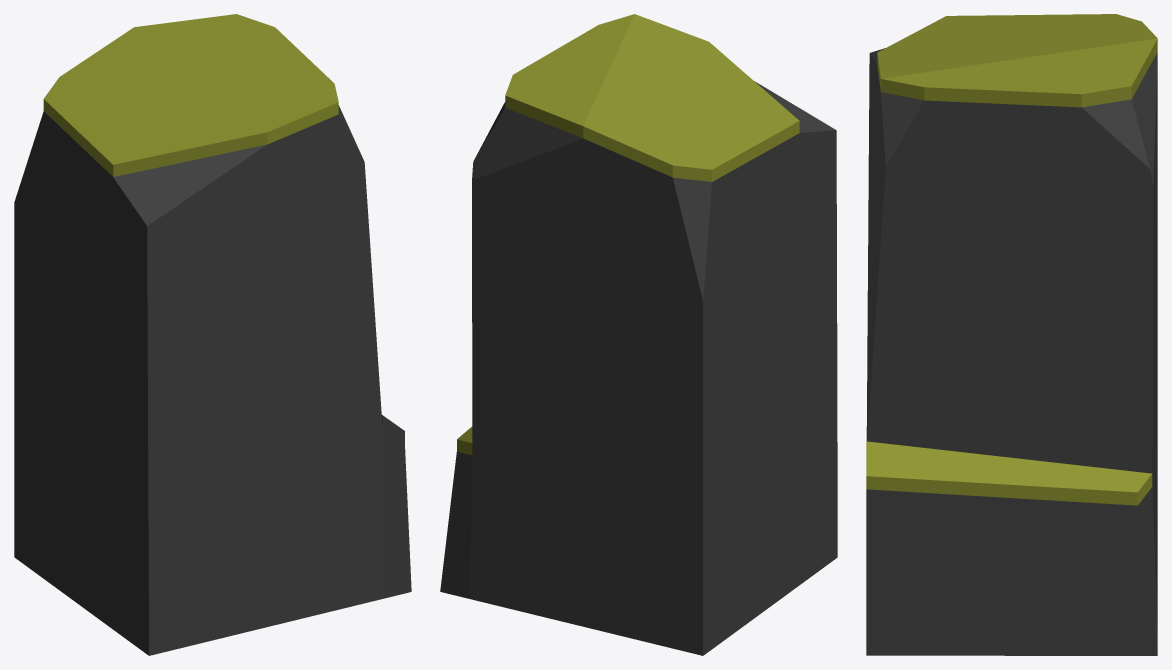
File: rock_rectangular_snow_moss_type_1_LOD0.fbx
The picture shows the model from 3 angles, left to right: view 1: azimuth 30°, elevation 25°; view 2: azimuth 150°, elevation 25°; view 3: azimuth 270°, elevation 25°; orthographic projection. The views are drawn at different scales.
Visible parts, largest first — view 1: Cube.038; view 2: Cube.038; view 3: Cube.038.
Boxes of the visible parts, x1=… form: Cube.038: x1=14, y1=14, x2=411, y2=655; Cube.038: x1=440, y1=14, x2=837, y2=655; Cube.038: x1=866, y1=14, x2=1157, y2=655.
Bounding box in the file's own units: 226 × 410 × 200.
